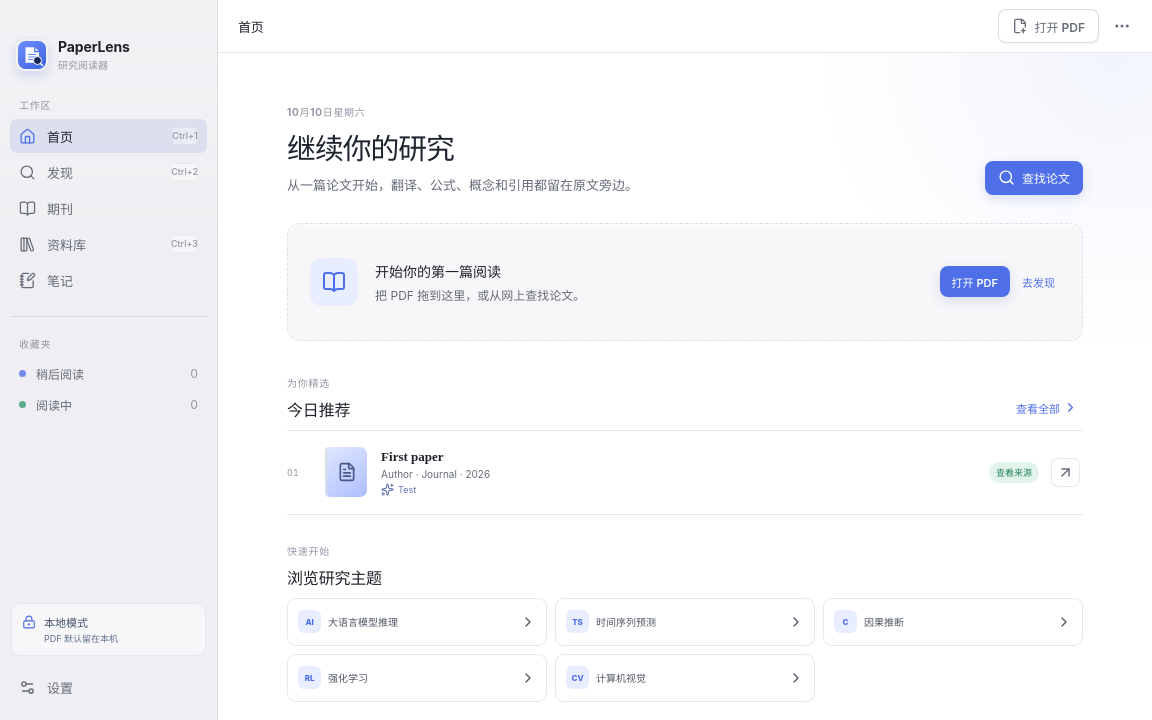
Test case: discovery navigation › clears incompatible filters and prevents an old search from replacing a recommendation
Click the button named "查找 First paper": (1065, 472) [1051,458,1080,487]
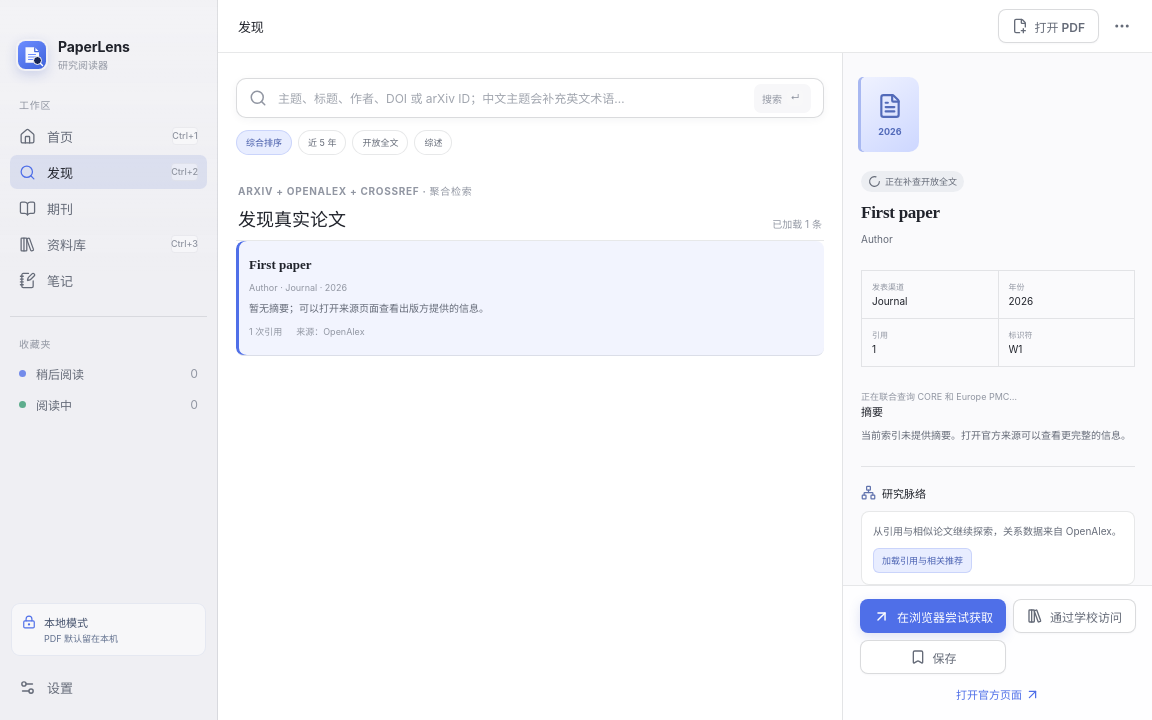
Click the button "综述": (433, 142) [414,130,452,155]
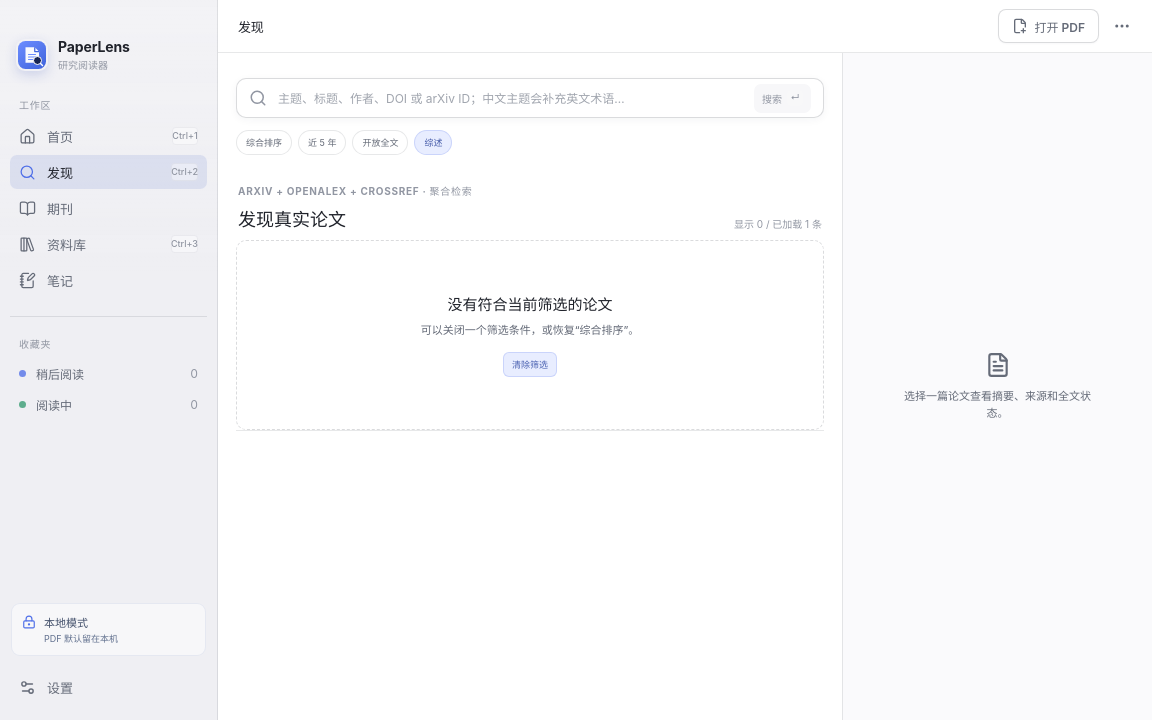
In the field named "搜索论文": (510, 98) [276,79,745,117], type "pending search"
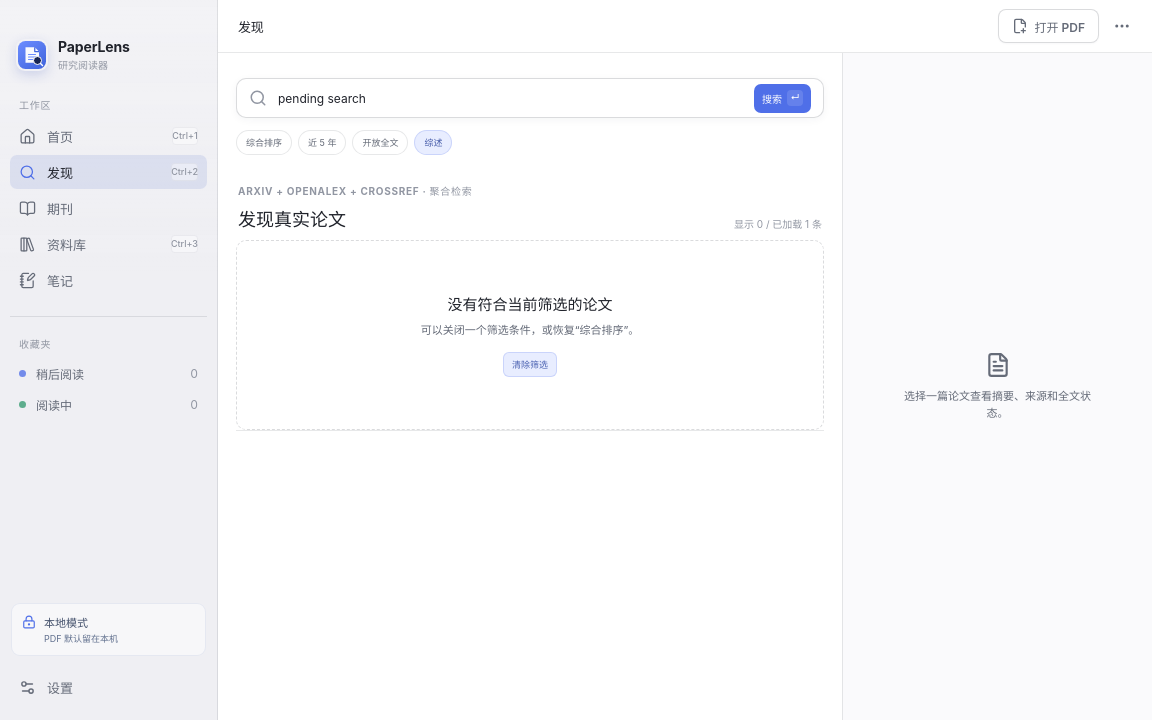
Click the button "搜索 ↵": (782, 98) [754,84,811,112]
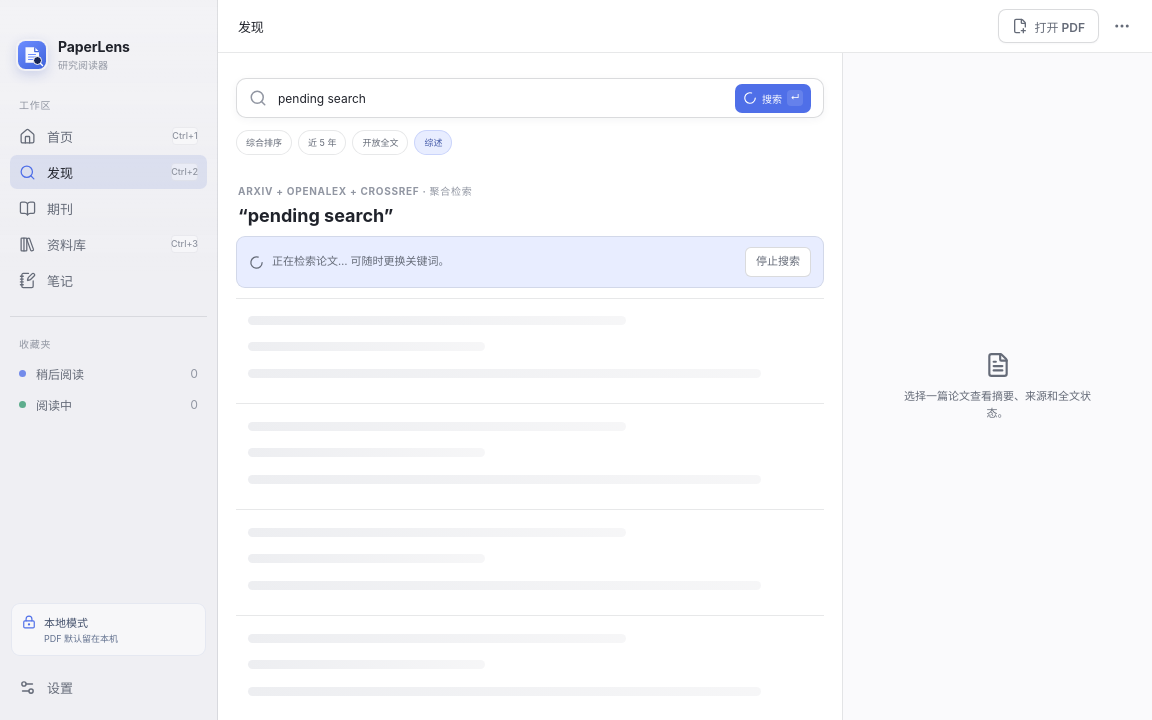
Click the button "首页 Ctrl+1": (108, 136) [10,119,207,153]
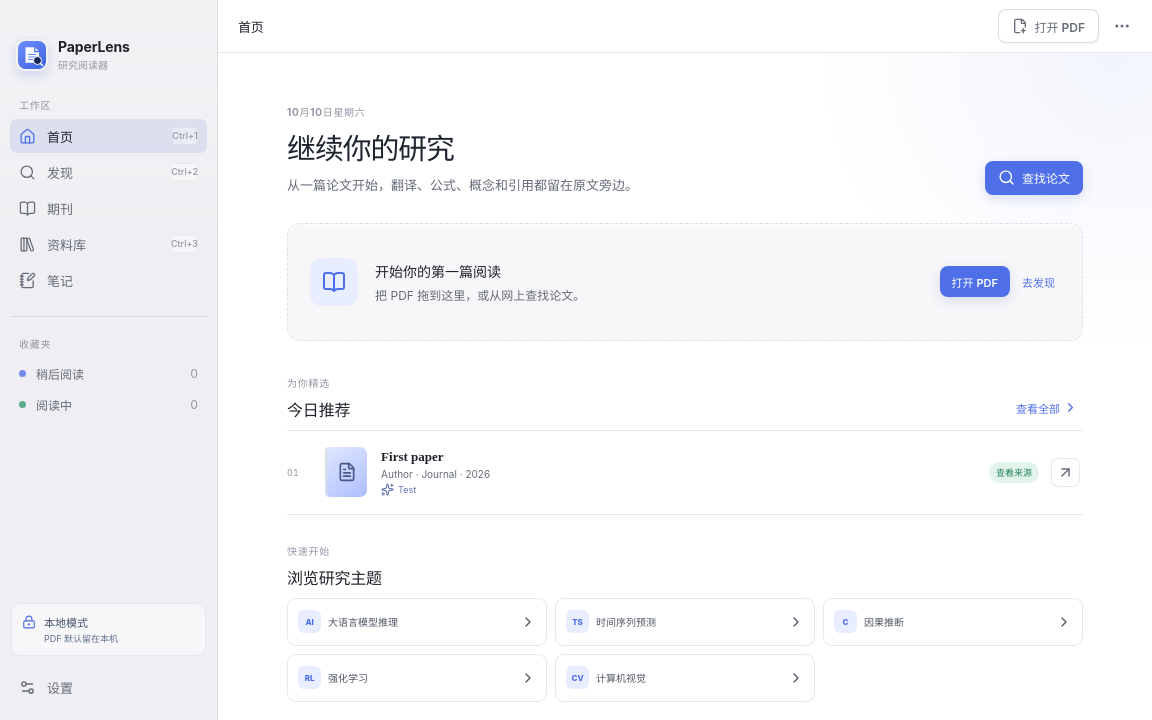
Click the button named "查找 First paper": (1065, 472) [1051,458,1080,487]
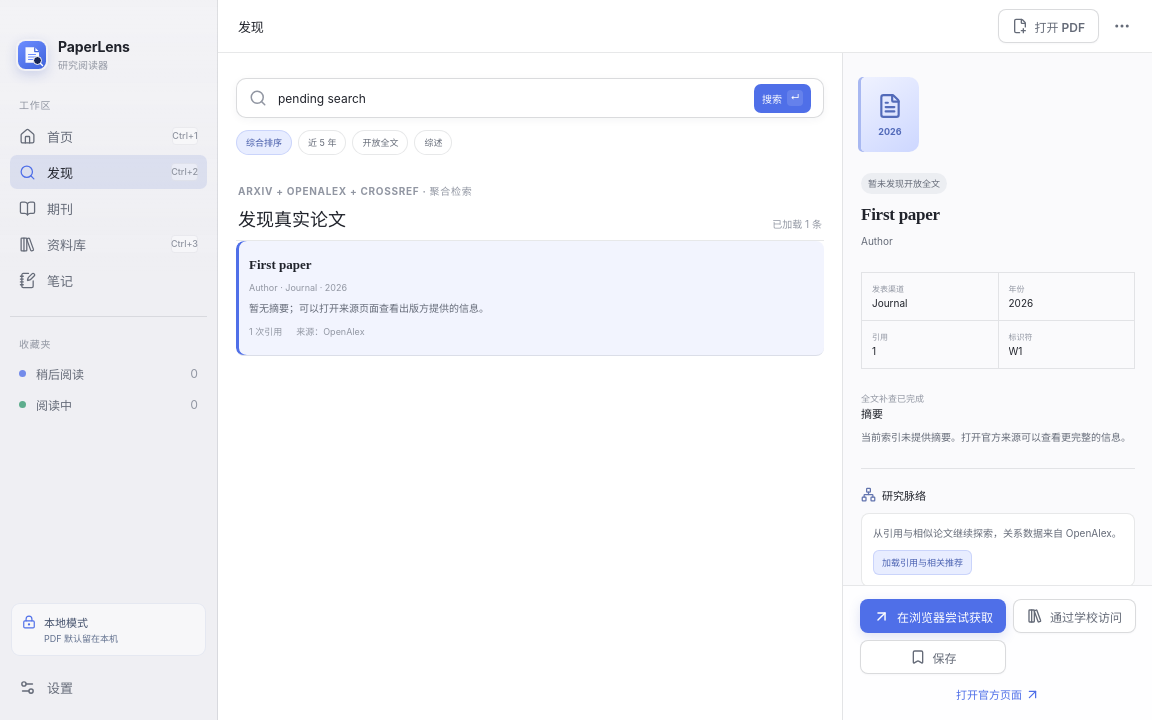
Result: the heading "First paper" is shown at [861,205,940,224]
